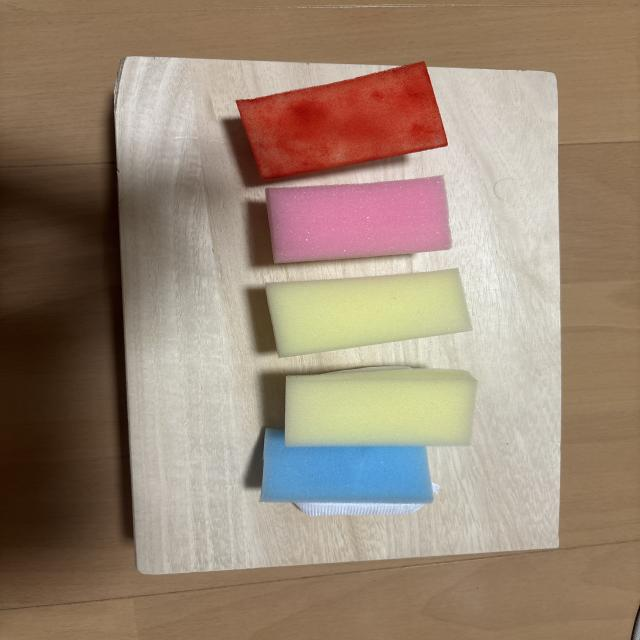NG: (261, 429, 439, 516)
salmon: (236, 62, 447, 178)
tai: (266, 176, 451, 263)
tamago: (266, 269, 471, 357), (285, 367, 476, 446)
